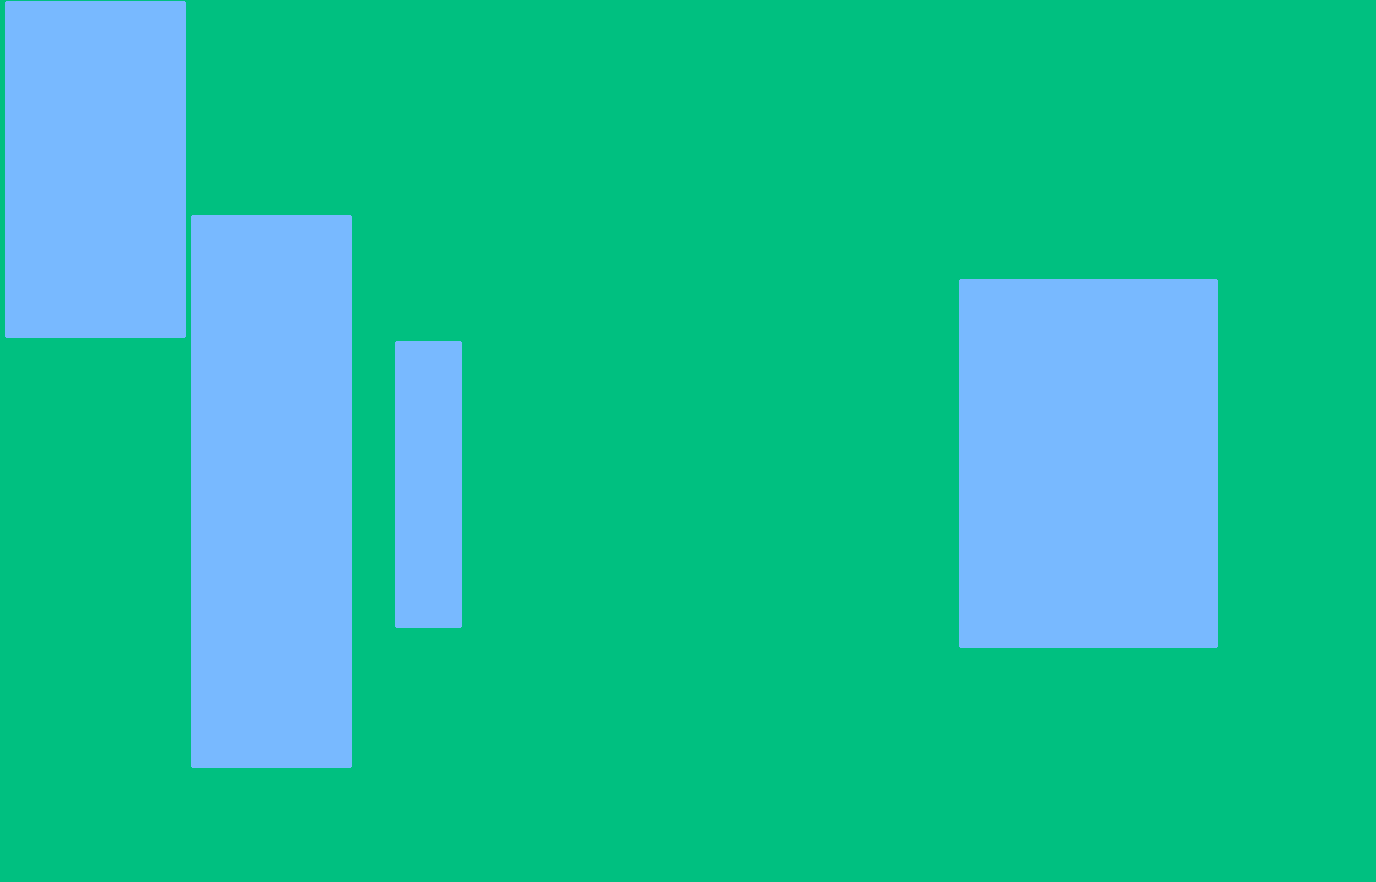Text_area: (960, 280, 1216, 646), (192, 216, 350, 766), (6, 2, 184, 336), (396, 342, 460, 626)
